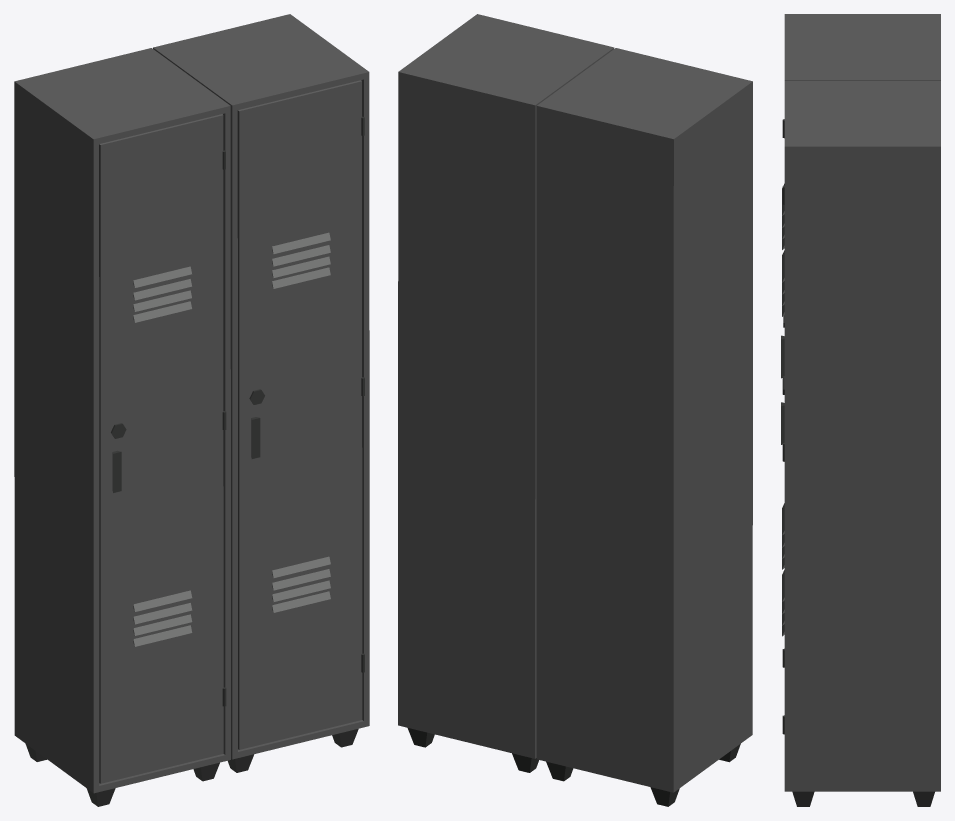
File: TallSingleLocker.glb
The picture shows the model from 3 angles, left to right: view 1: azimuth 30°, elevation 25°; view 2: azimuth 150°, elevation 25°; view 3: azimuth 270°, elevation 25°; orthographic projection.
Visible parts, largest first — view 1: locker1; view 2: locker1; view 3: locker1.
Part boxes in pixels (x1,y1,x2,y2): locker1: [14, 14, 369, 806]; locker1: [398, 14, 752, 806]; locker1: [781, 14, 940, 806].
Size of the model in its own units: 0.9268 by 2.17 by 0.4715.
1 material, 1 textured.
